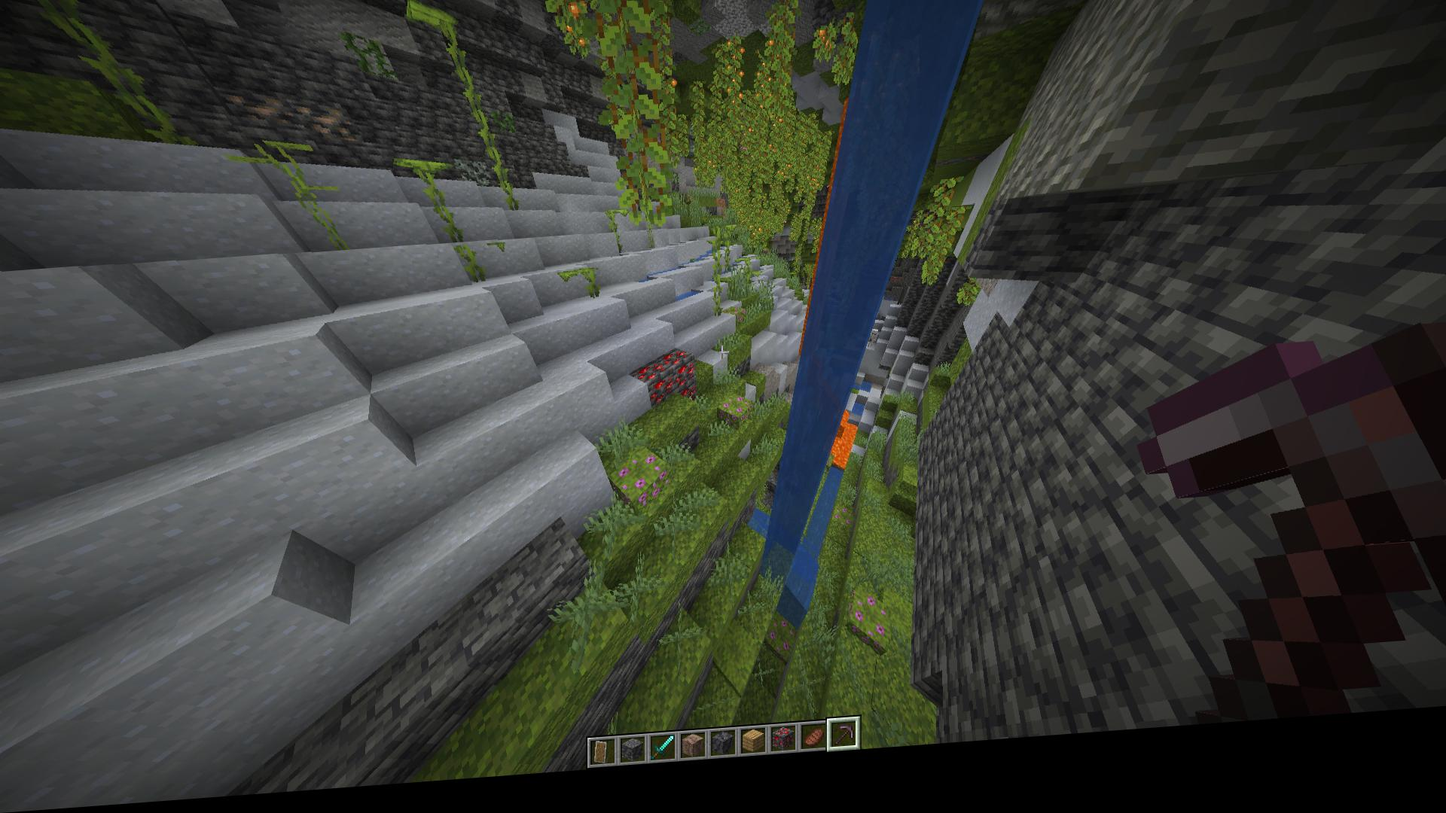iron ore: (223, 89, 299, 134), (301, 105, 356, 149)
redstone ore: (651, 385, 677, 415), (664, 355, 690, 382), (635, 372, 667, 393), (674, 370, 698, 396)
